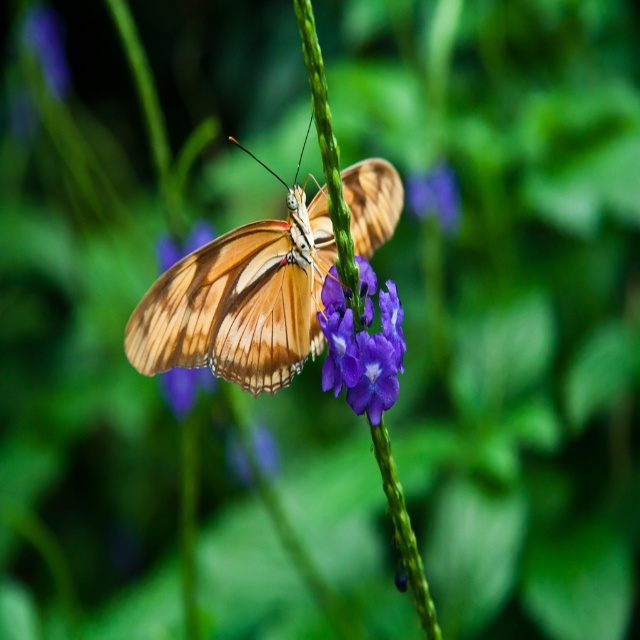Butterfly: (124, 108, 404, 400)
